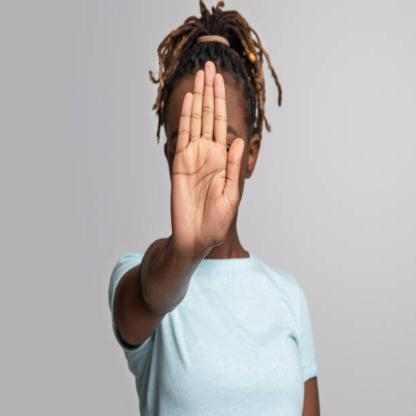stop: (168, 54, 246, 252)
